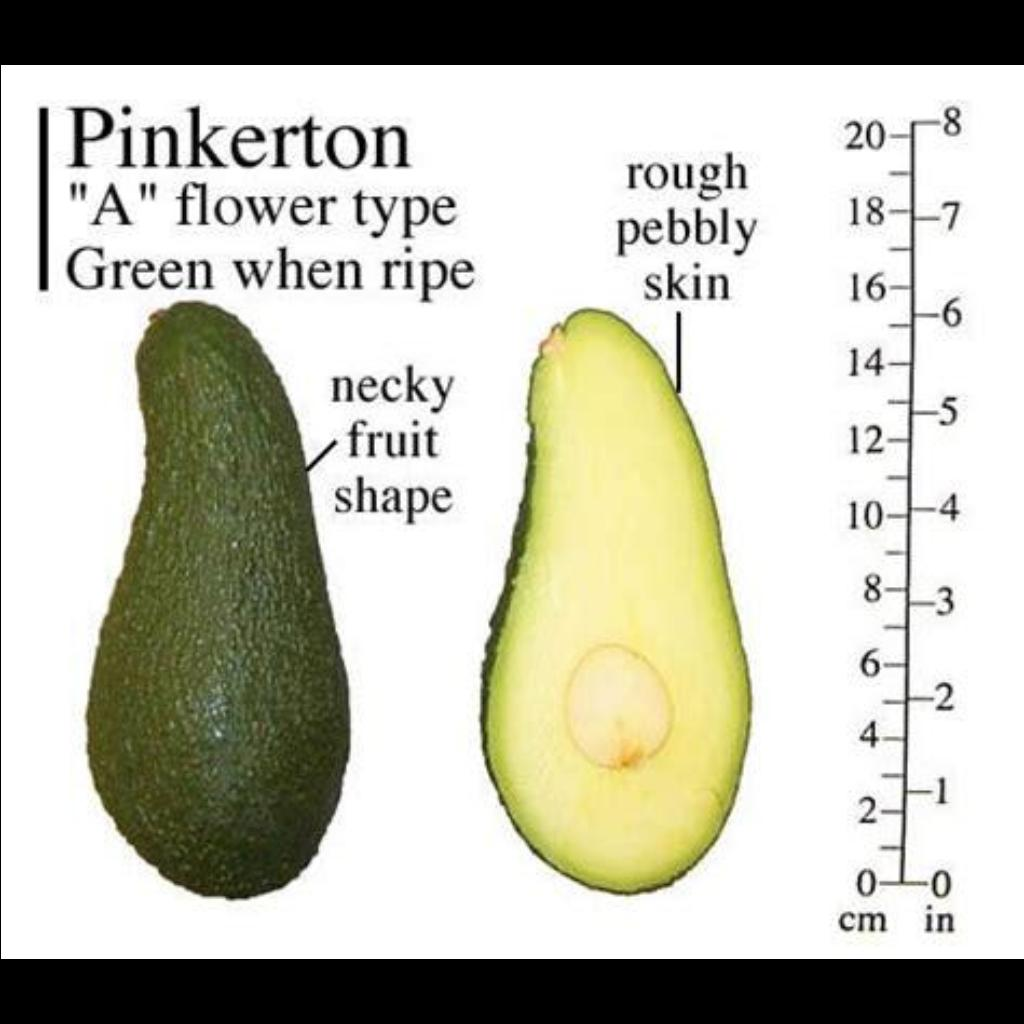Healthy: (82, 291, 360, 911), (490, 305, 754, 895)
